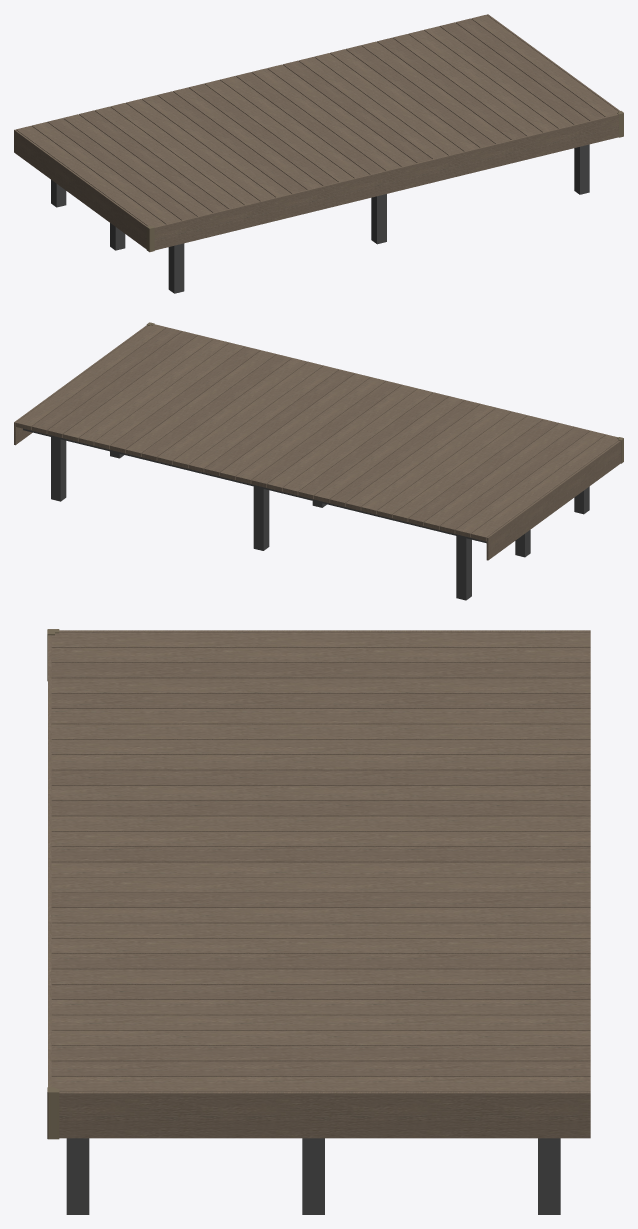
Rendered from ecowoodrealdeck_550-2k-6s_sepiabrown1.fbx.
The picture shows the model from 3 angles, top to bottom: view 1: azimuth 30°, elevation 25°; view 2: azimuth 150°, elevation 25°; view 3: azimuth 270°, elevation 25°; orthographic projection. The views are drawn at different scales.
Visible parts, largest first — view 1: ecowoodrealdeck_550-2k-6s_sepiabrown; view 2: ecowoodrealdeck_550-2k-6s_sepiabrown; view 3: ecowoodrealdeck_550-2k-6s_sepiabrown.
Boxes of the visible parts, box(x1,y1,x2,y2) form: ecowoodrealdeck_550-2k-6s_sepiabrown: box(14, 14, 623, 293); ecowoodrealdeck_550-2k-6s_sepiabrown: box(14, 322, 623, 600); ecowoodrealdeck_550-2k-6s_sepiabrown: box(47, 629, 590, 1214).
Size of the model in its own units: 363 by 55.4 by 180.
5 materials, 4 textured.
